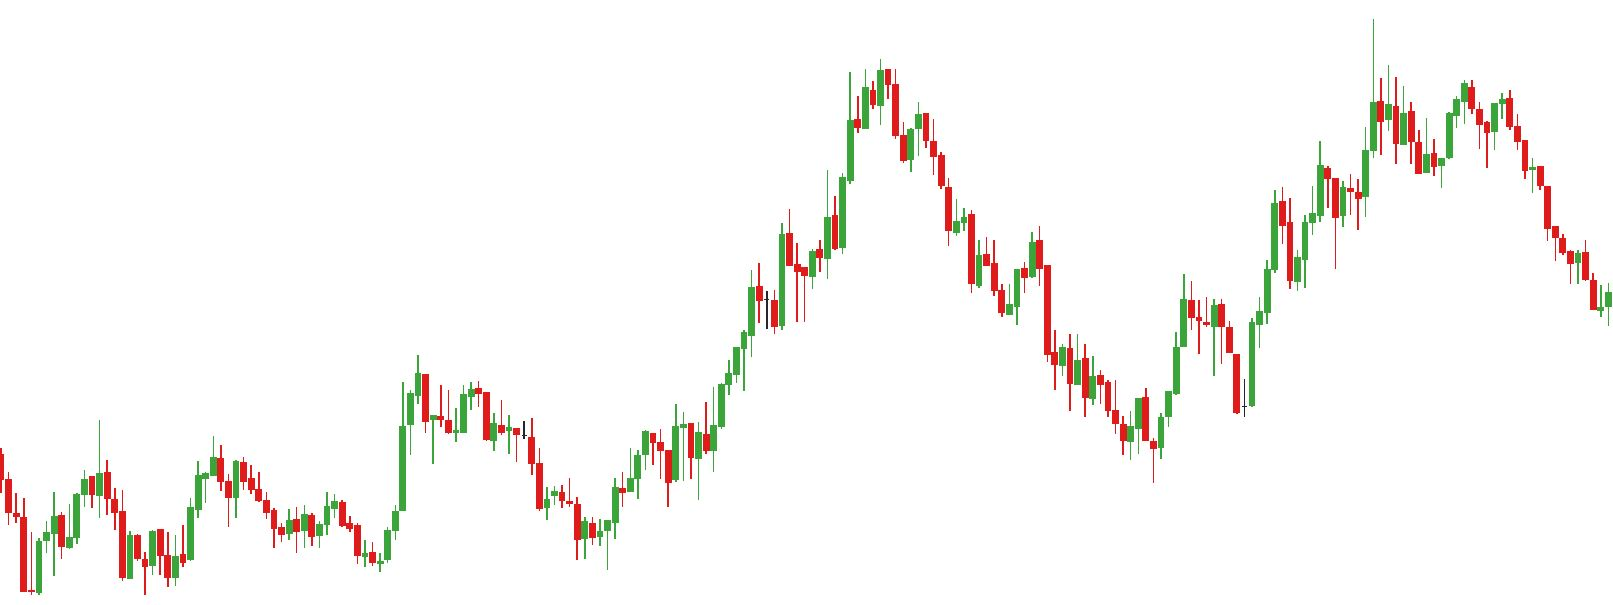buy: (48, 481, 135, 588), (292, 506, 392, 576)
sell: (1399, 72, 1477, 144)
